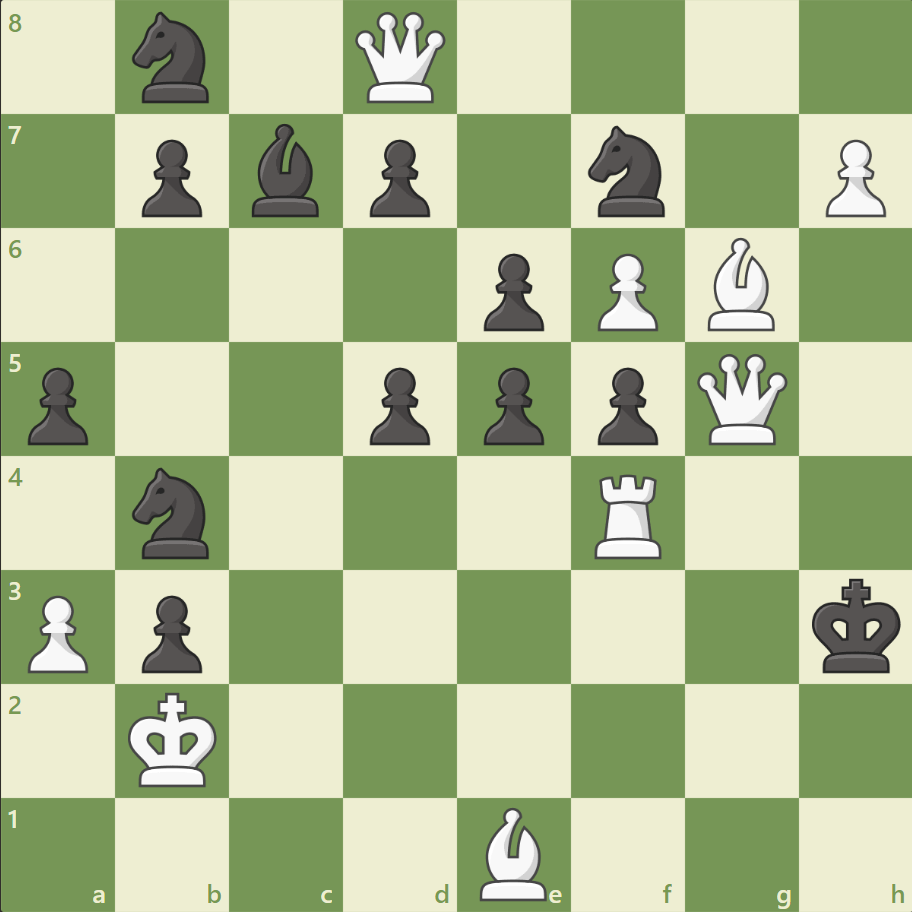B: (698, 233, 782, 336), (471, 801, 555, 904)
K: (124, 685, 224, 793)
P: (20, 586, 95, 677), (815, 132, 889, 223), (588, 246, 662, 337)
Q: (691, 349, 790, 449), (351, 9, 450, 108)
R: (587, 466, 670, 563)
b: (244, 120, 328, 222)
k: (806, 571, 906, 679)
n: (124, 7, 222, 110), (124, 461, 222, 564), (579, 121, 676, 223)
p: (133, 132, 208, 223), (474, 246, 549, 337), (20, 359, 95, 450), (474, 359, 549, 450), (133, 586, 208, 677), (361, 132, 435, 223), (361, 359, 435, 450), (588, 359, 662, 450)
